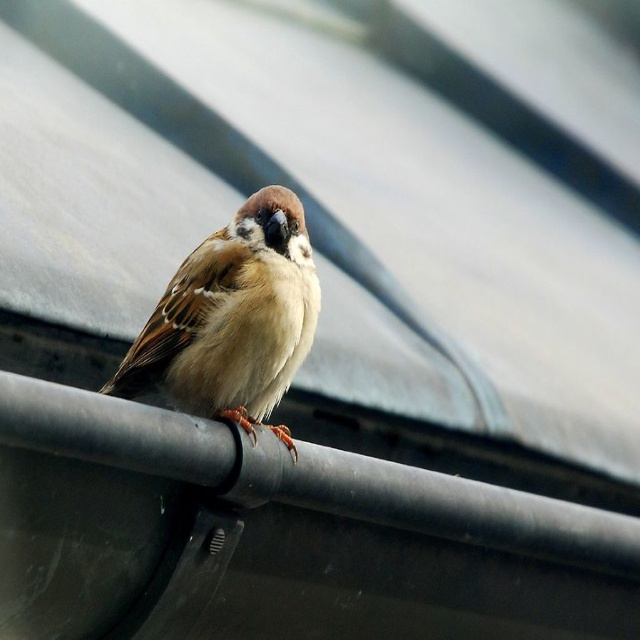Sparrow: (99, 181, 321, 459)
